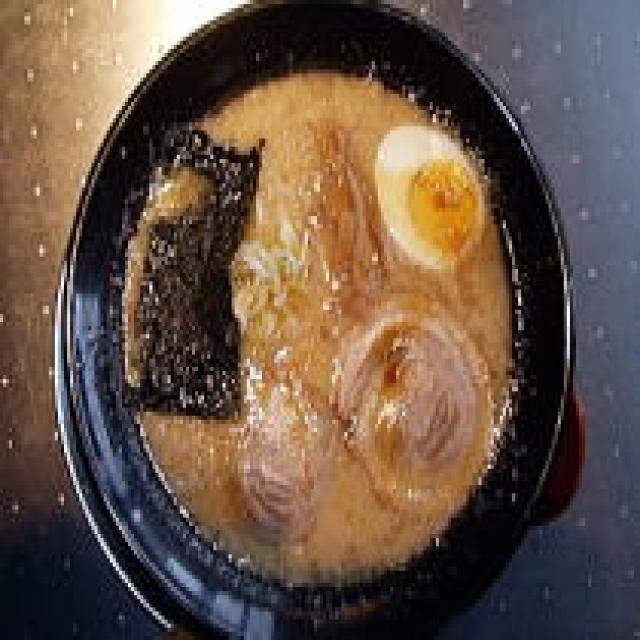面条主食: (40, 0, 579, 640)
